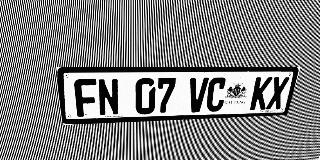0: (135, 78, 156, 115)
7: (155, 78, 176, 114)
C: (205, 77, 228, 112)
F: (74, 79, 98, 117)
K: (249, 77, 273, 110)
N: (97, 78, 119, 116)
V: (187, 77, 209, 113)
X: (266, 77, 290, 109)
